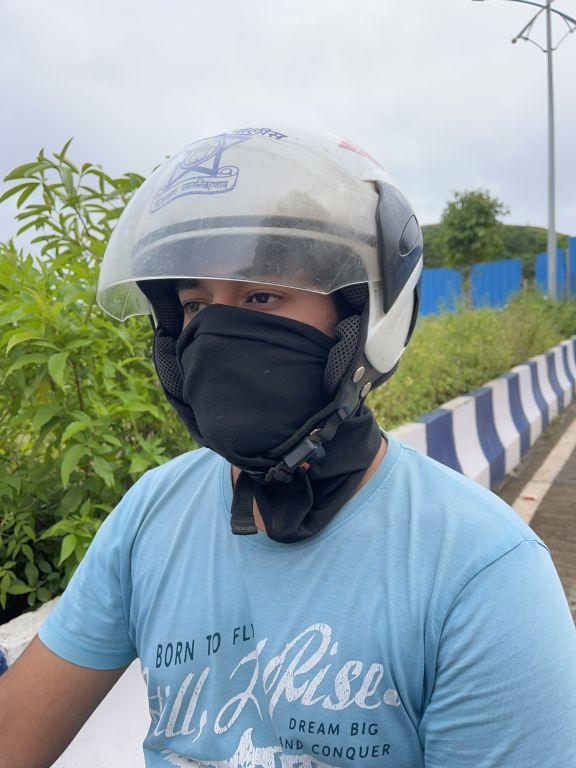helmet: (89, 112, 430, 409)
